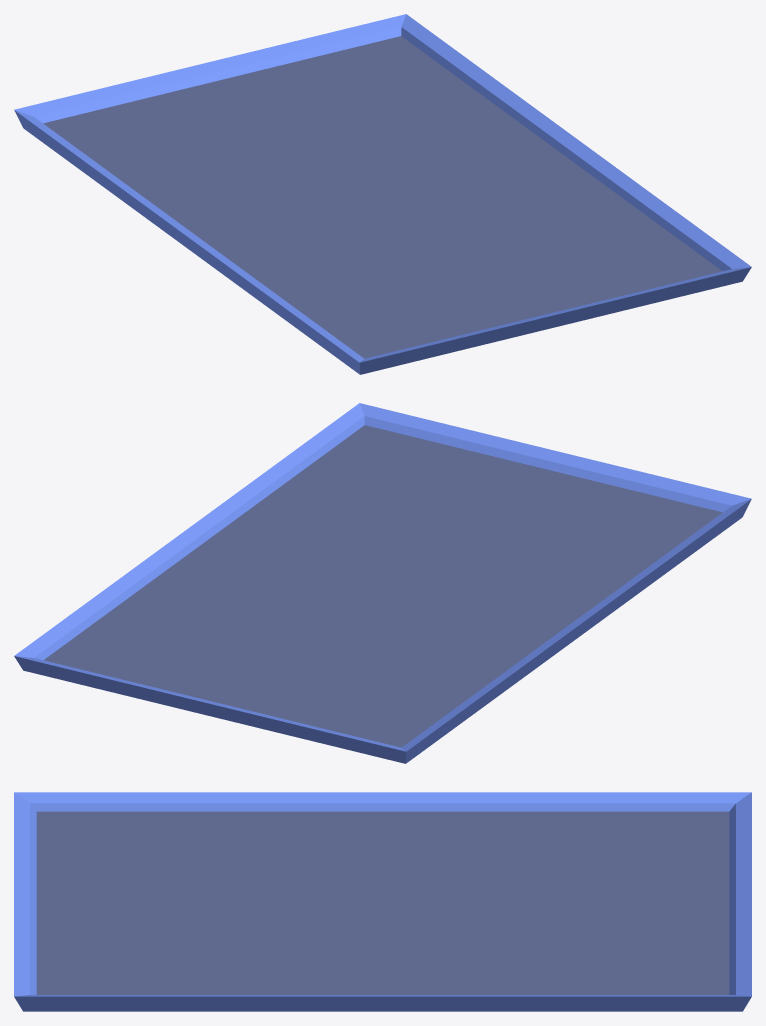
File: FoodHolderThing.fbx
3 renders of one model, top to bottom at view 1: azimuth 30°, elevation 25°; view 2: azimuth 150°, elevation 25°; view 3: azimuth 270°, elevation 25°, orthographic. The views are drawn at different scales.
Parts seen in each view (by area): view 1: FoodHolderThing; view 2: FoodHolderThing; view 3: FoodHolderThing.
Part boxes in pixels (bbox=[...]): FoodHolderThing: bbox=[14, 14, 751, 374]; FoodHolderThing: bbox=[14, 403, 751, 763]; FoodHolderThing: bbox=[14, 792, 751, 1011].
Size of the model in its own units: 205 by 8.28 by 313.
